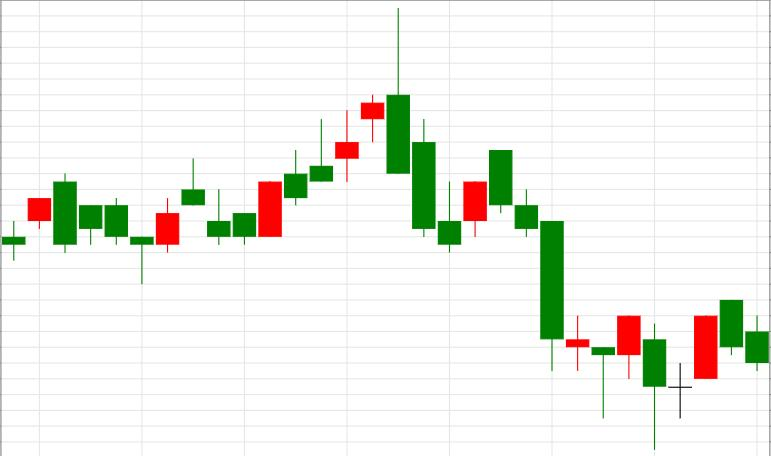bearish_engulfing_fall: (259, 8, 409, 238)
morning_star_rise: (490, 150, 717, 448)
